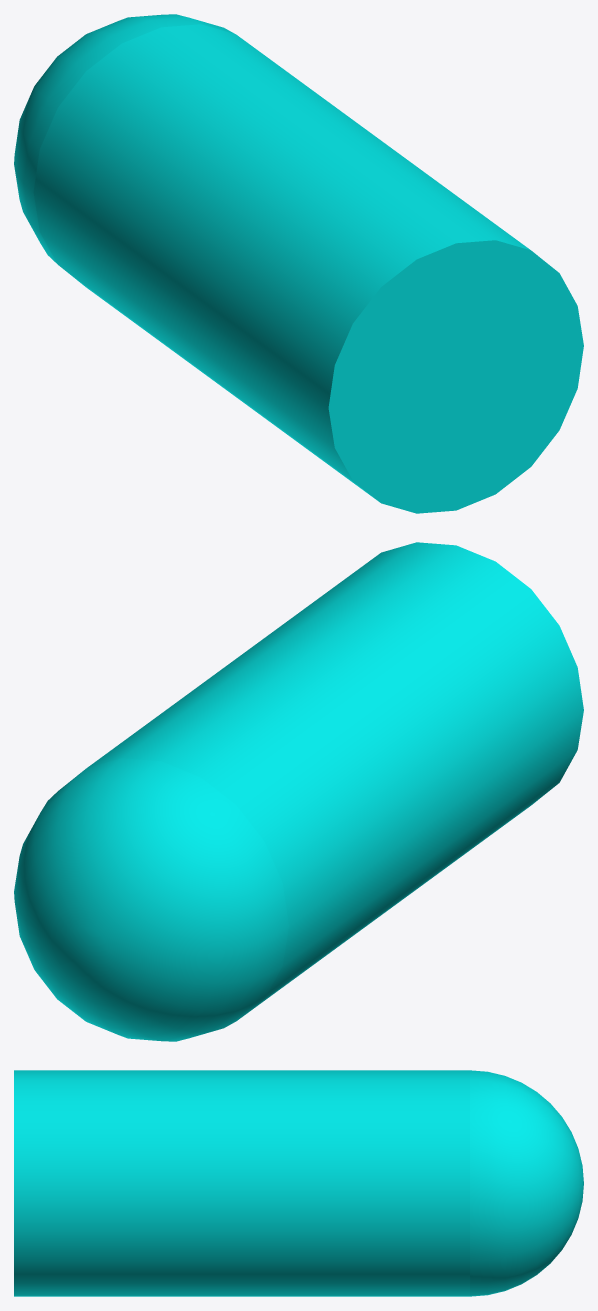
Rendered from lazzor.fbx.
3 renders of one model, top to bottom at view 1: azimuth 30°, elevation 25°; view 2: azimuth 150°, elevation 25°; view 3: azimuth 270°, elevation 25°, orthographic. The views are drawn at different scales.
Visible parts, largest first — view 1: group2_pasted__pPlane1; view 2: group2_pasted__pPlane1; view 3: group2_pasted__pPlane1.
Boxes of the visible parts, <box> form: group2_pasted__pPlane1: <box>14,14,583,513</box>; group2_pasted__pPlane1: <box>14,542,583,1041</box>; group2_pasted__pPlane1: <box>14,1070,583,1296</box>.
Bounding box in the file's own units: 2 × 2 × 5.
